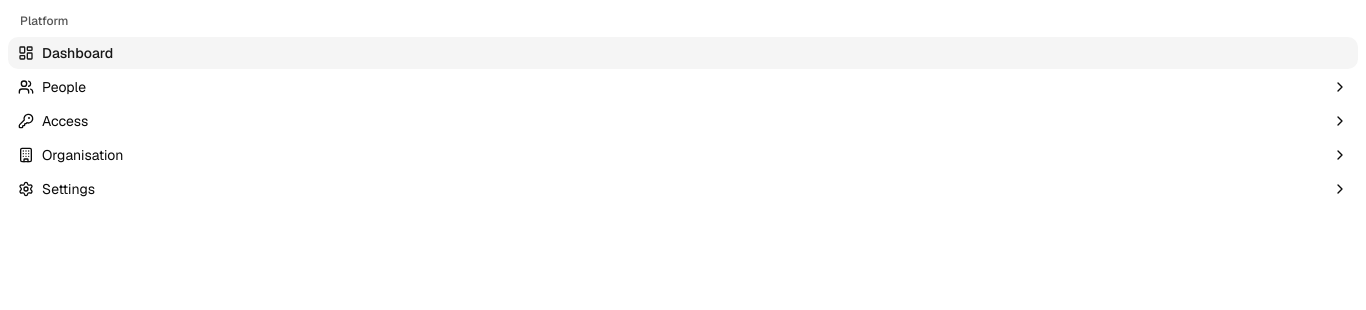
Test: accordion behaviour › shows the sub-items of the open section
The image size is (1366, 310).
Click the button "Access": (65, 121) x1=8 y1=105 x2=1358 y2=137
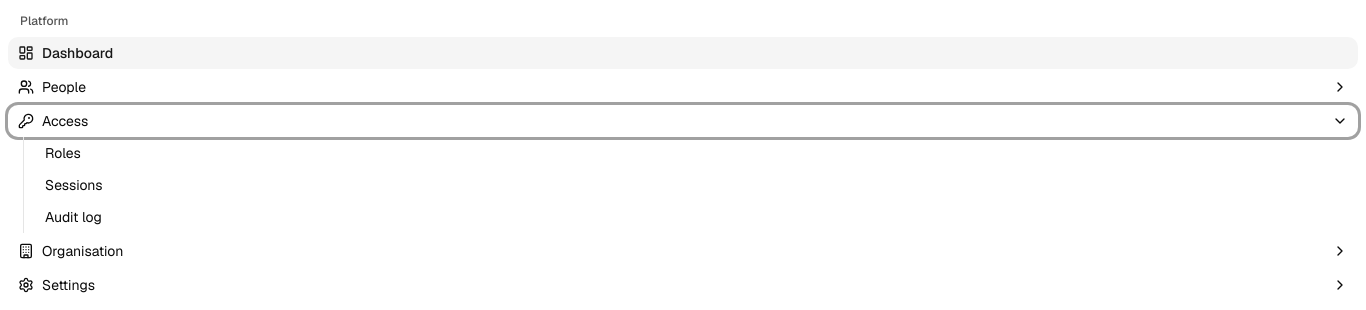
Now the text "Audit log" is shown, box x1=45 y1=207 x2=102 y2=227
